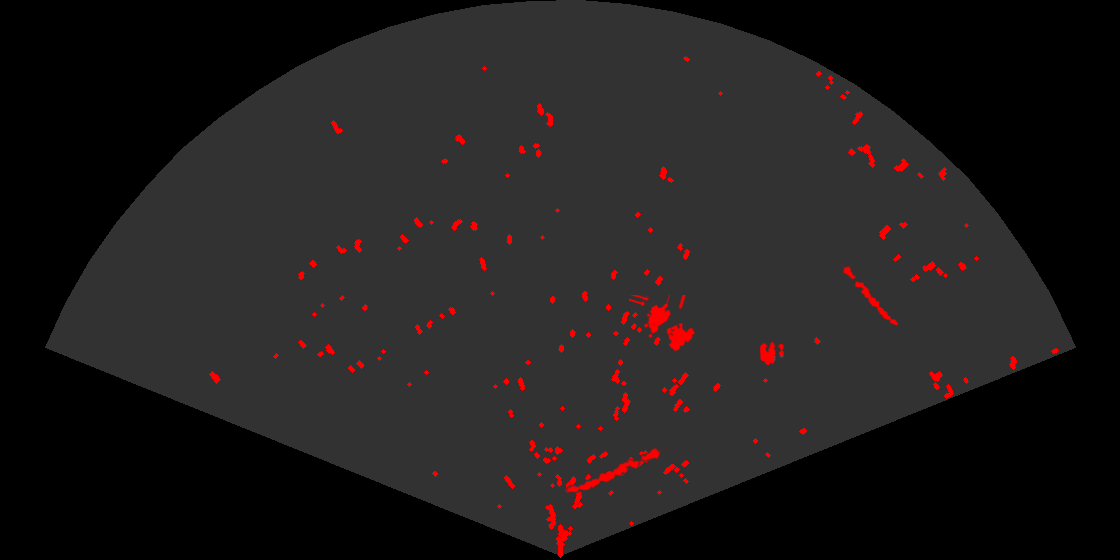ball: (758, 340, 785, 367)
cage: (629, 295, 697, 353)
chain: (565, 445, 669, 494), (836, 261, 900, 327)
